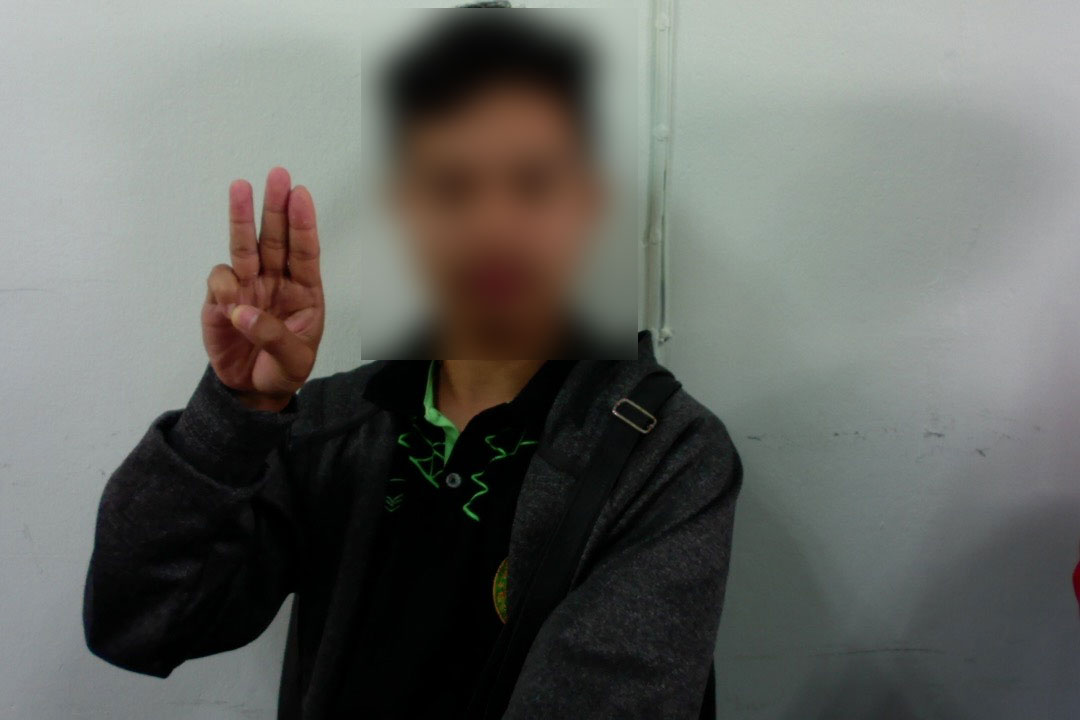wor: (194, 167, 334, 405)
